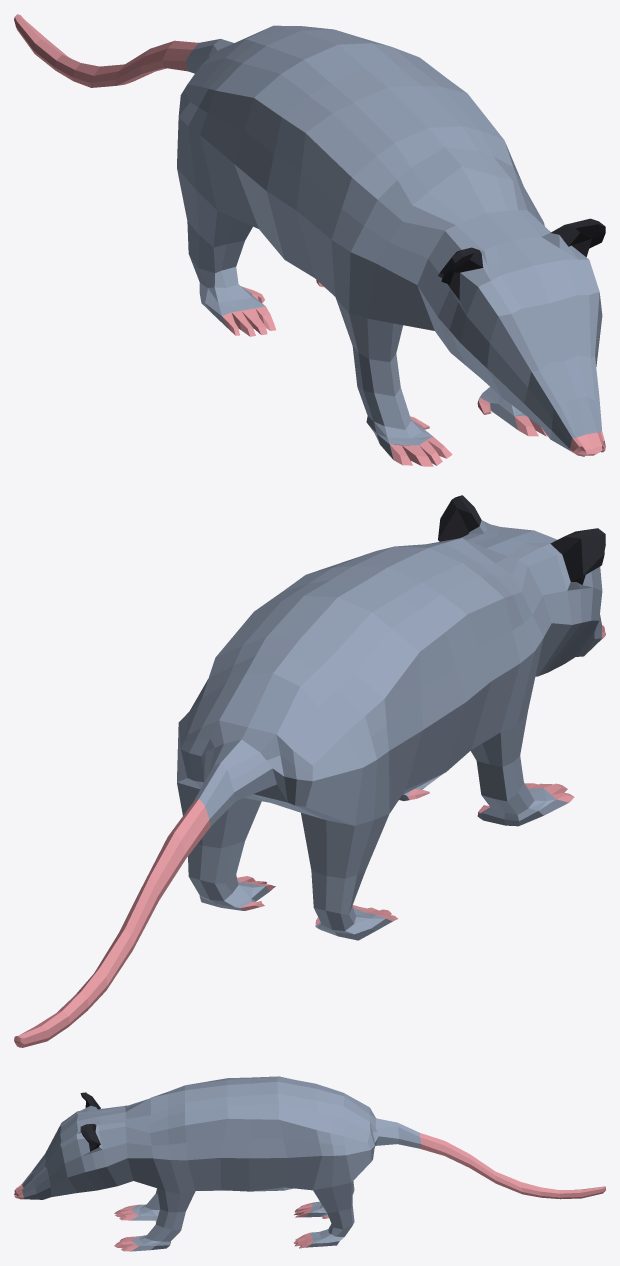
3 renders of one model, top to bottom at view 1: azimuth 30°, elevation 25°; view 2: azimuth 150°, elevation 25°; view 3: azimuth 270°, elevation 25°, orthographic. The views are drawn at different scales.
Visible parts, largest first — view 1: Opossum; view 2: Opossum; view 3: Opossum.
Boxes of the visible parts, left/top/right/bottom form: Opossum: left=14, top=14, right=605, bottom=466; Opossum: left=14, top=495, right=605, bottom=1047; Opossum: left=14, top=1076, right=605, bottom=1251.
Bounding box in the file's own units: 1.71 × 2.38 × 8.58.
